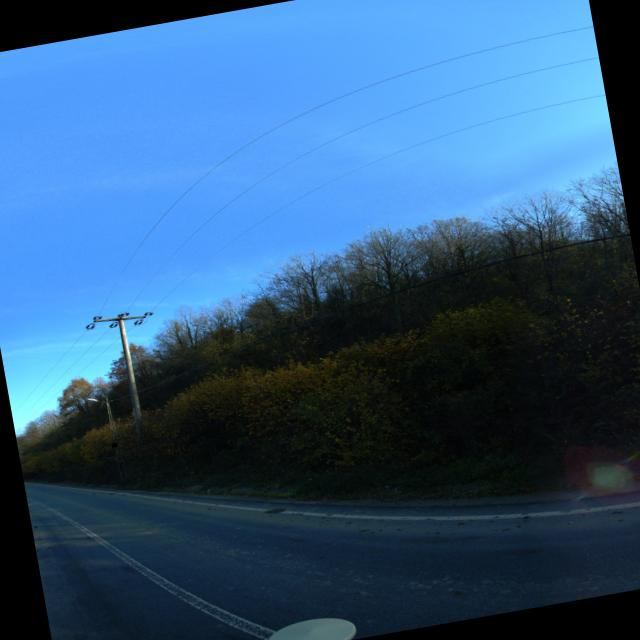Utility Pole Information Plate: (111, 442, 117, 447)
